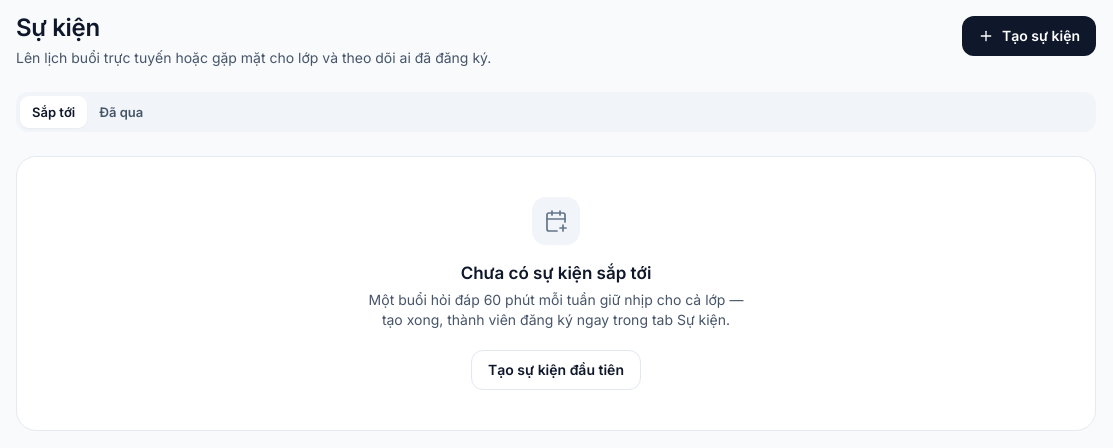
Test: StudioEvents › switches to past events with scope=past
Check: the heading "Chưa có sự kiện sắp tới" is shown, box x1=461 y1=261 x2=651 y2=286
Click the button "Đã qua" at (121, 112), box x1=87 y1=96 x2=155 y2=128
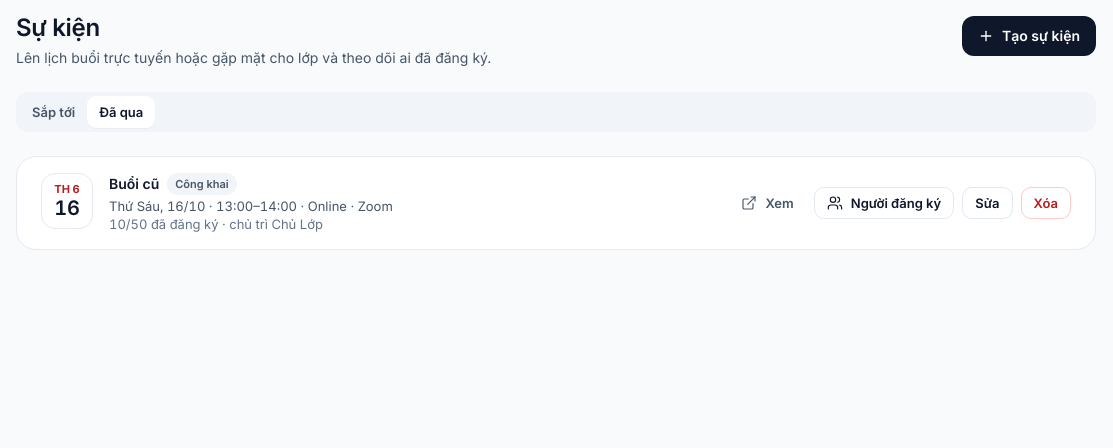
Check: the text "Buổi cũ" is shown, box x1=109 y1=174 x2=159 y2=194
